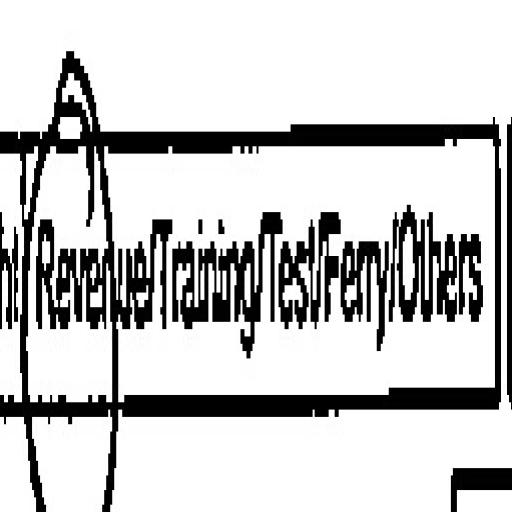check: (18, 73, 147, 512)
